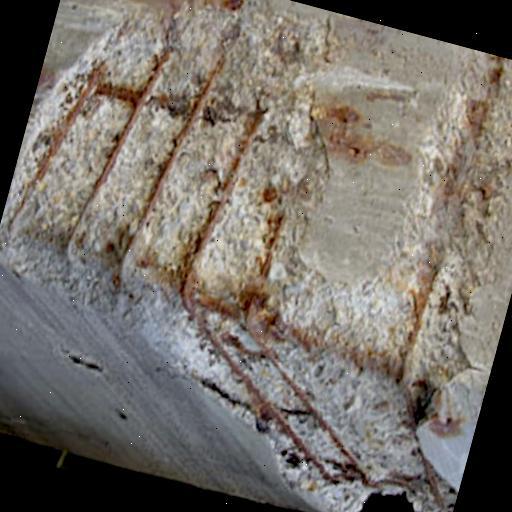spalling: (0, 10, 512, 512)
